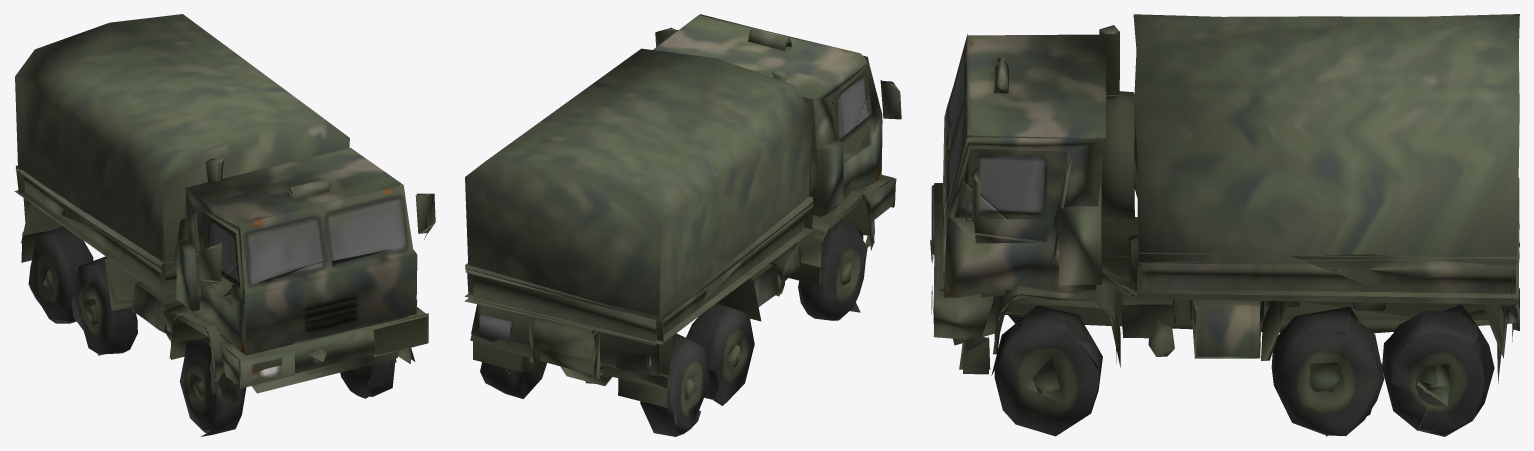
The model's file is cn-supply-truck.glb.
3 views of the same model, side by side, from view 1: azimuth 30°, elevation 25°; view 2: azimuth 150°, elevation 25°; view 3: azimuth 270°, elevation 25° (orthographic). The views are drawn at different scales.
Parts seen in each view (by area): view 1: cn-supply-truck; view 2: cn-supply-truck; view 3: cn-supply-truck.
Part boxes in pixels (x1,y1,x2,y2): cn-supply-truck: [14, 14, 435, 436]; cn-supply-truck: [464, 14, 901, 436]; cn-supply-truck: [930, 14, 1519, 436].
Bounding box in the file's own units: 0.516 × 0.54 × 0.86.
2 materials, 1 textured.
